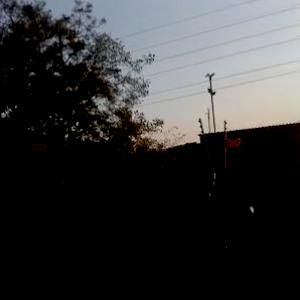follow: (183, 154, 264, 297)
